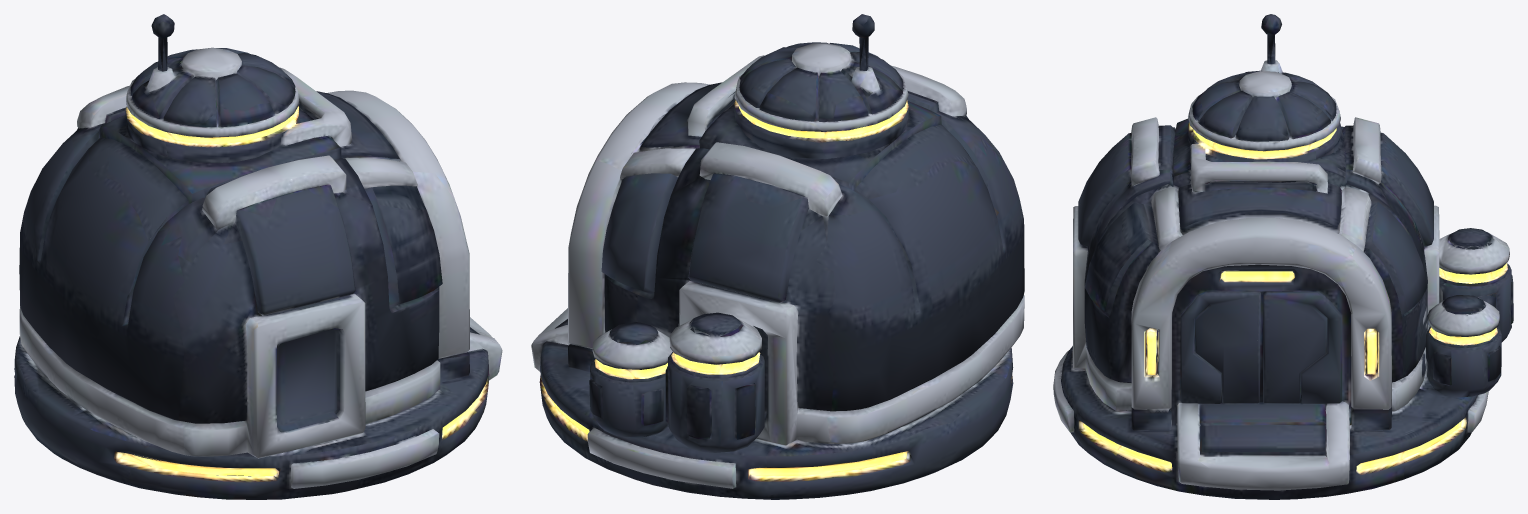
The model's file is building-warehouse-tier-2.glb.
3 renders of one model, left to right at view 1: azimuth 30°, elevation 25°; view 2: azimuth 150°, elevation 25°; view 3: azimuth 270°, elevation 25°, orthographic. The views are drawn at different scales.
Parts seen in each view (by area): view 1: building-warehouse-tier-2-body; view 2: building-warehouse-tier-2-body; view 3: building-warehouse-tier-2-body.
Part boxes in pixels (box(x1,y1,x2,y2)): building-warehouse-tier-2-body: box(14, 14, 502, 499); building-warehouse-tier-2-body: box(531, 14, 1024, 499); building-warehouse-tier-2-body: box(1053, 14, 1513, 499).
Size of the model in its own units: 0.9279 by 0.8677 by 1.
1 material, 1 textured.
